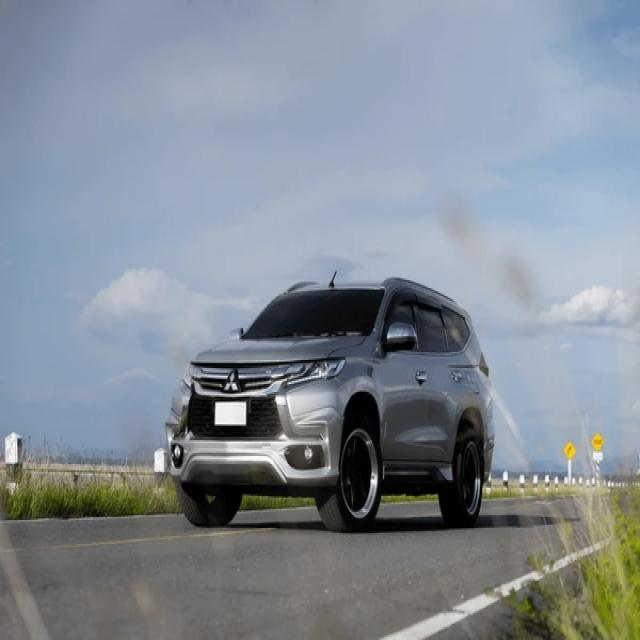mitsubishi: (224, 372, 242, 398)
